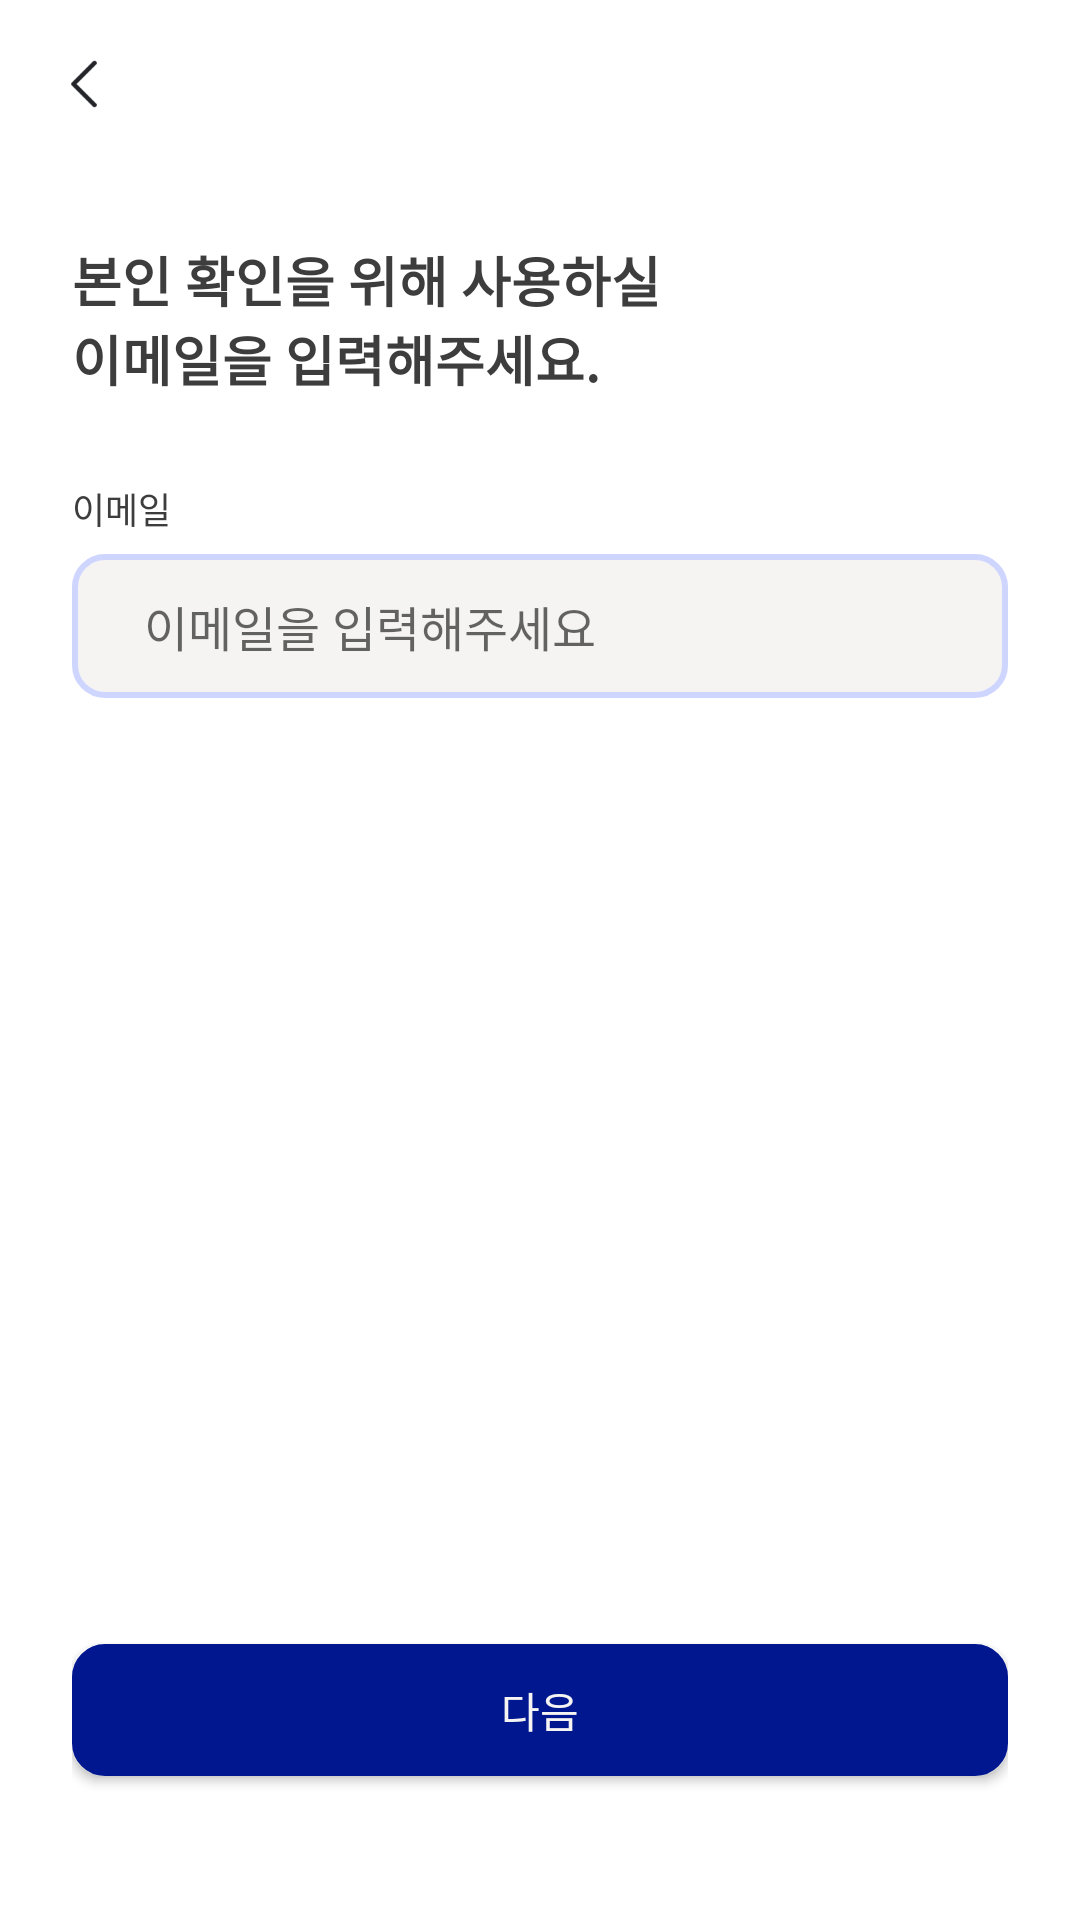

Point at icon controls on the screen. Image size 1080px x 1920px, points as [x,y].
arrow: [84,84]
